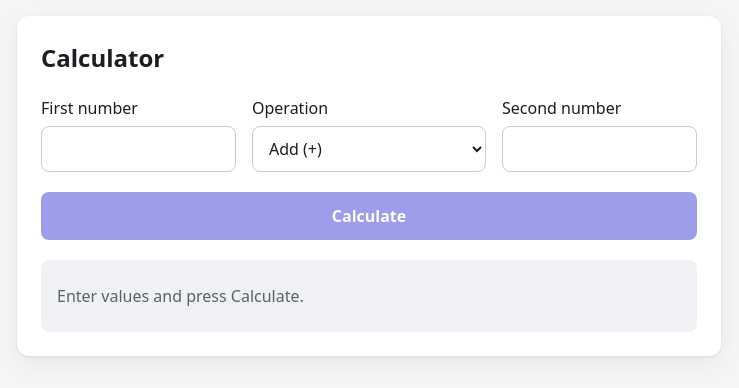
Test: Calculator › shows the backend error message
The image size is (739, 388).
In the field labelled "First number": (138, 149) [41,126,236,172], type "5"
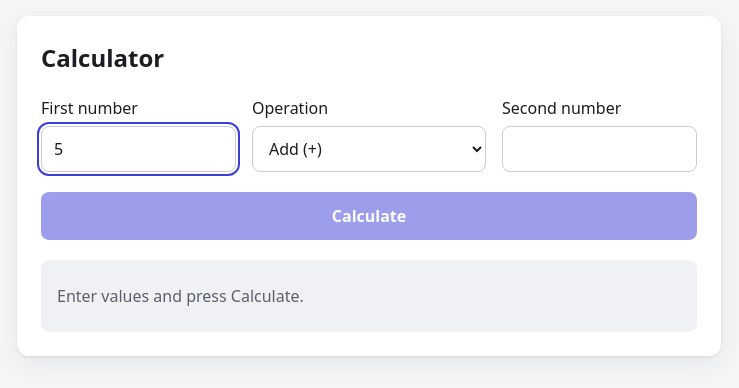
Select "Divide (÷)" in the dropdown labelled "Operation": (369, 149) [252,126,486,172]
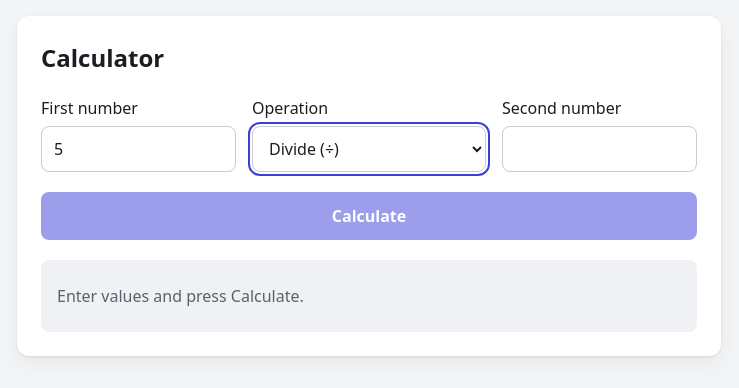
In the field labelled "Second number": (600, 149) [502,126,697,172], type "0"
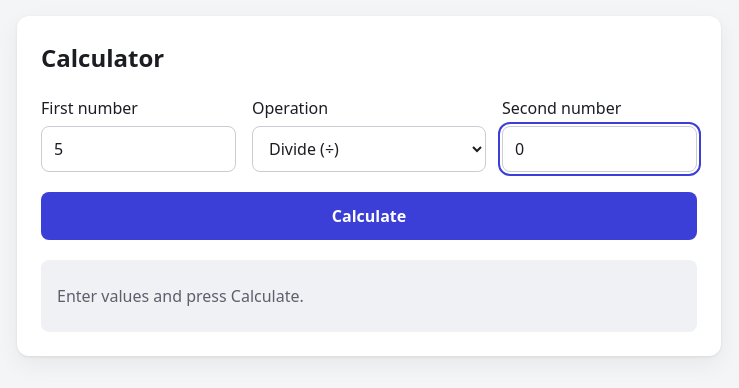
Click the button "Calculate": (369, 216) [41,192,697,240]
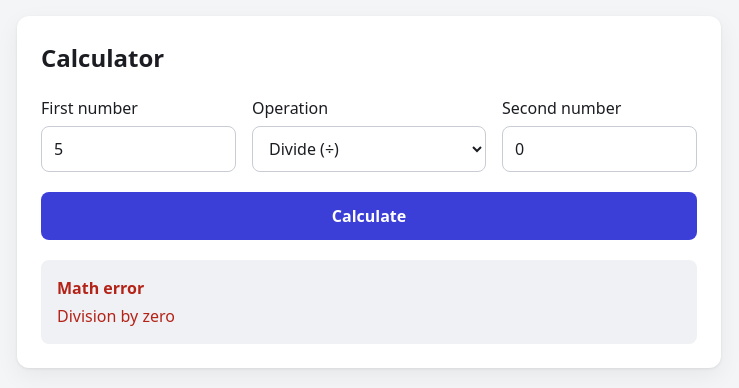
expect the message shows "Math error": met, box [57,277,144,299]
expect the message shows "Division by zero": met, box [57,305,175,327]
